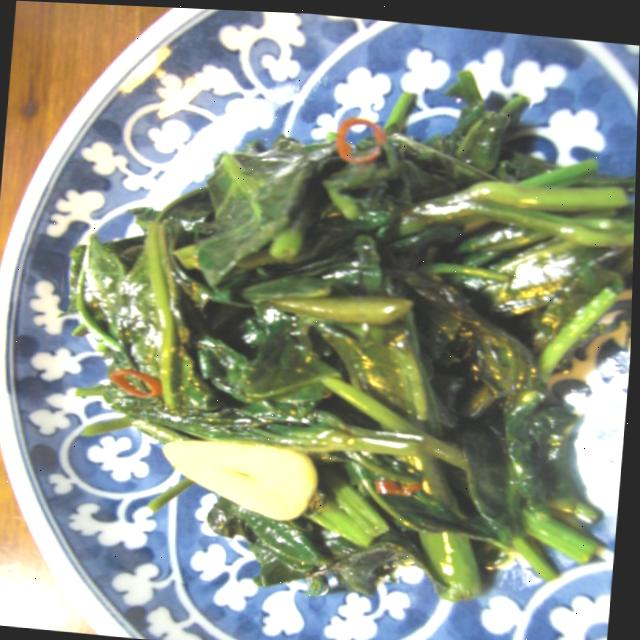蔬菜料理: (1, 1, 640, 640)
